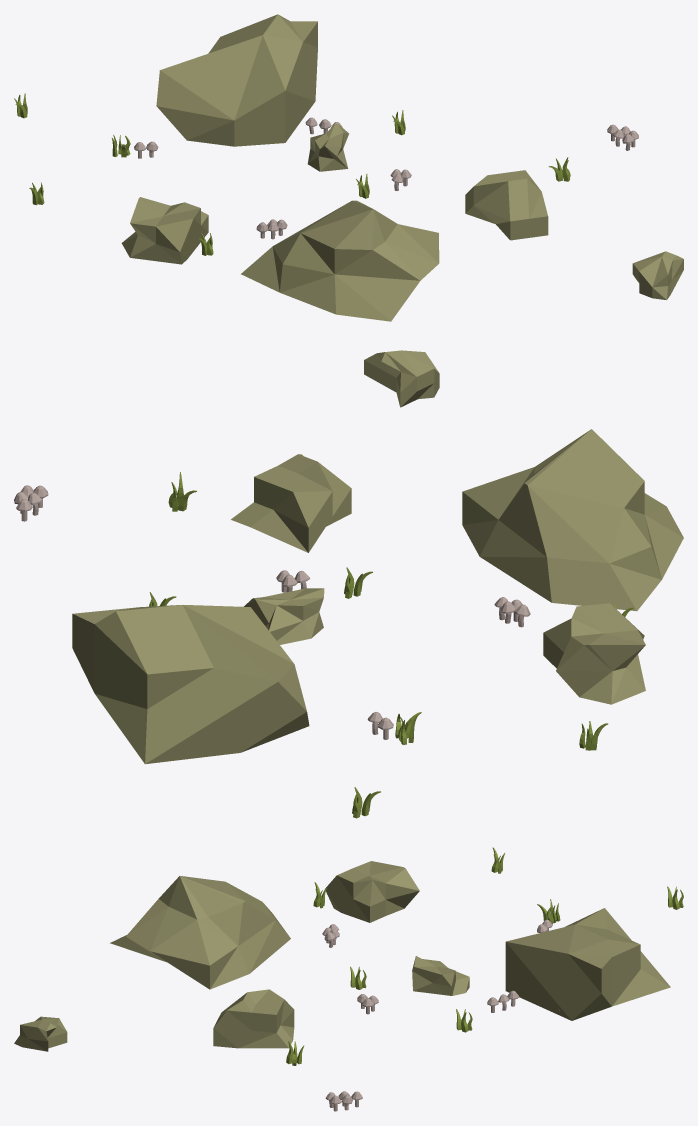
The model's file is Rocks.fbx.
3 views of the same model, one above another, from view 1: azimuth 30°, elevation 25°; view 2: azimuth 150°, elevation 25°; view 3: azimuth 270°, elevation 25° (orthographic). The views are drawn at different scales.
Visible parts, largest first — view 1: Rocks; view 2: Rocks; view 3: Rocks.
Part boxes in pixels (left/top/right/bottom): Rocks: left=14, top=14, right=683, bottom=321; Rocks: left=14, top=350, right=683, bottom=818; Rocks: left=14, top=847, right=683, bottom=1111.
Bounding box in the file's own units: 3732 × 599 × 4358.
